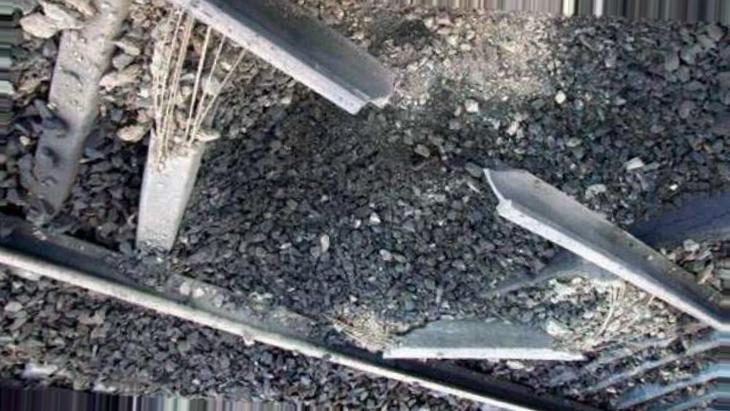tracks_fault: (315, 38, 580, 255), (149, 7, 250, 157), (568, 273, 668, 363), (314, 297, 402, 363)
